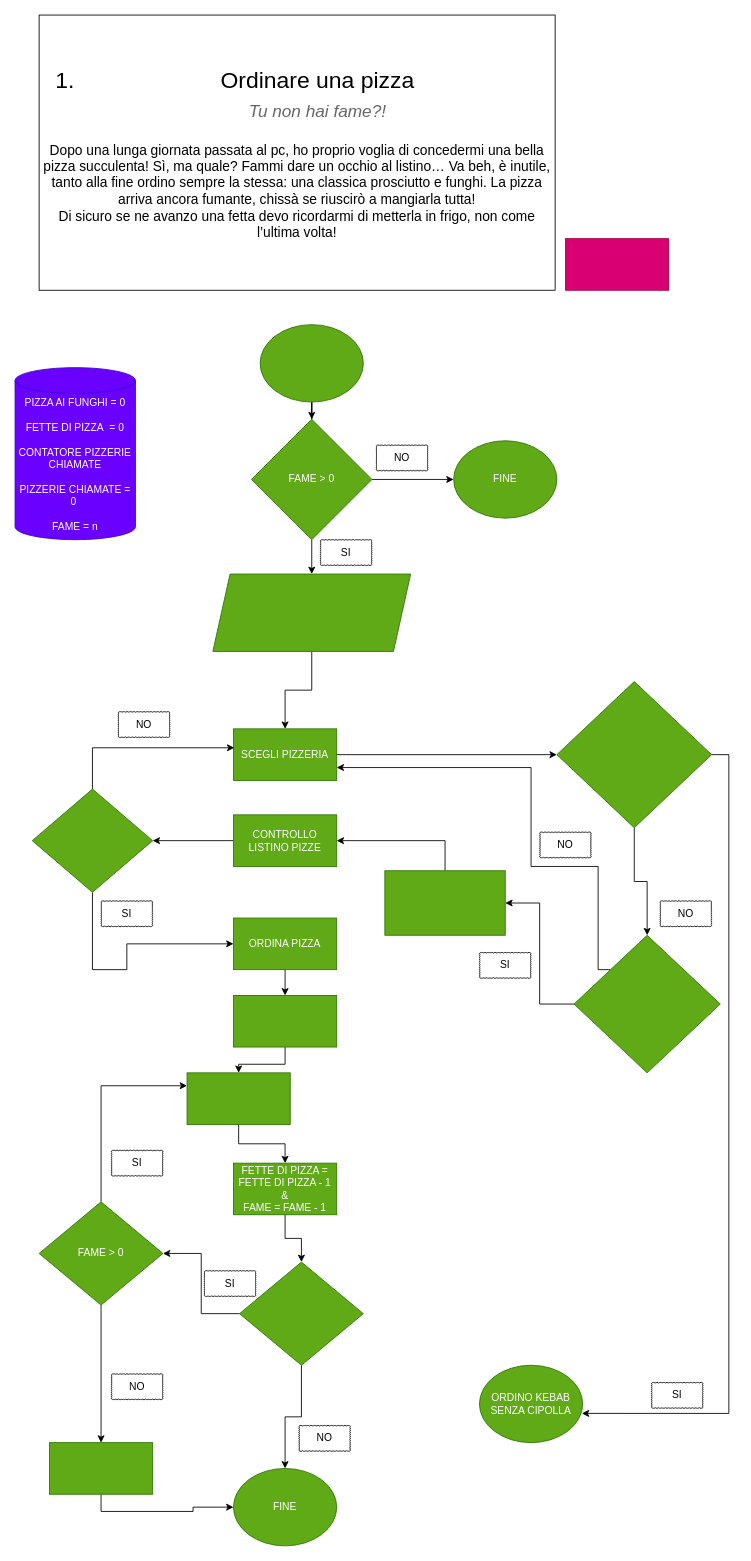
Image size: 751x1561. Some labels were removed from this diagram. The shapes that lost their labels are listed below. From the top down, each one's box as (x1, y1, x2, y2) in pixels, then its label:
(565, 238, 669, 290): TEAM 6 ESERCIZIO 6
(259, 324, 363, 402): INIZIO
(212, 573, 411, 651): ELENCO PIZZERIE INTORNO A ME
(556, 681, 712, 828): CPC == LUNGHEZZA LISTA PIZZERIE INTORNO A ME
(31, 788, 153, 892): PIZZA AI FUNGHI == 1
(384, 870, 505, 935): CPC = CPC + 1 PIZZERIA CHIAMATA = 1
(233, 995, 337, 1047): FETTE DI PIZZA = FETTE DI PIZZA + 4
(573, 934, 720, 1073): PIZZERIA CHIAMATA? == 0
(186, 1072, 290, 1124): MANGIA FETTA DI PIZZA
(239, 1261, 363, 1365): FETTE DI PIZZA > 0
(49, 1442, 153, 1494): POSA IN FRIGO
